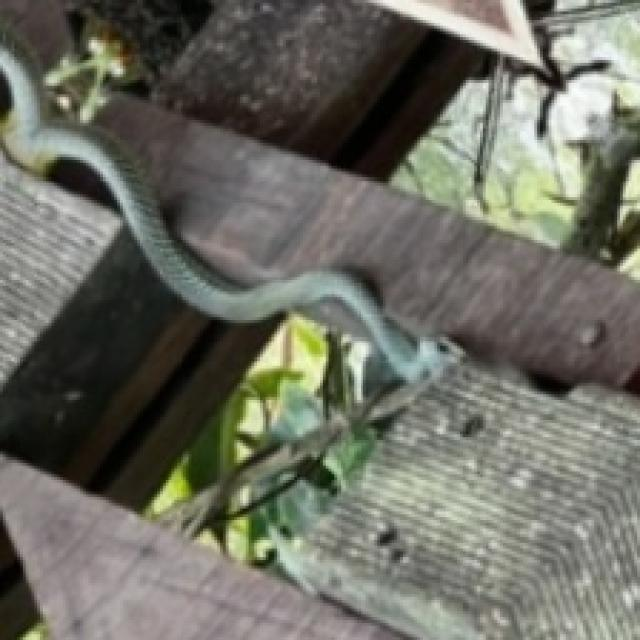paradise tree snake: (0, 0, 440, 380)
